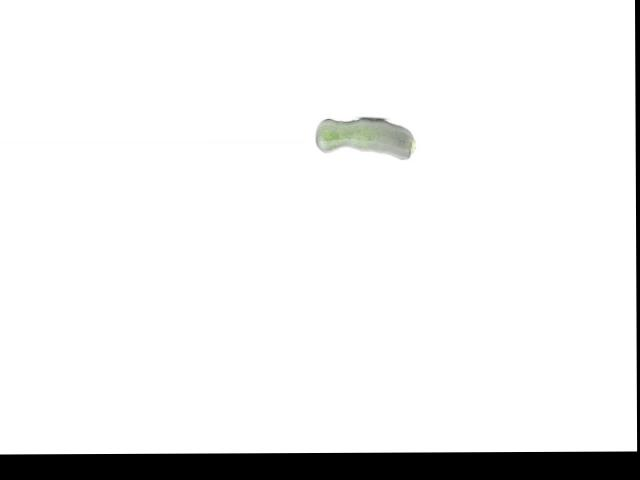cucumber: (315, 117, 416, 160)
